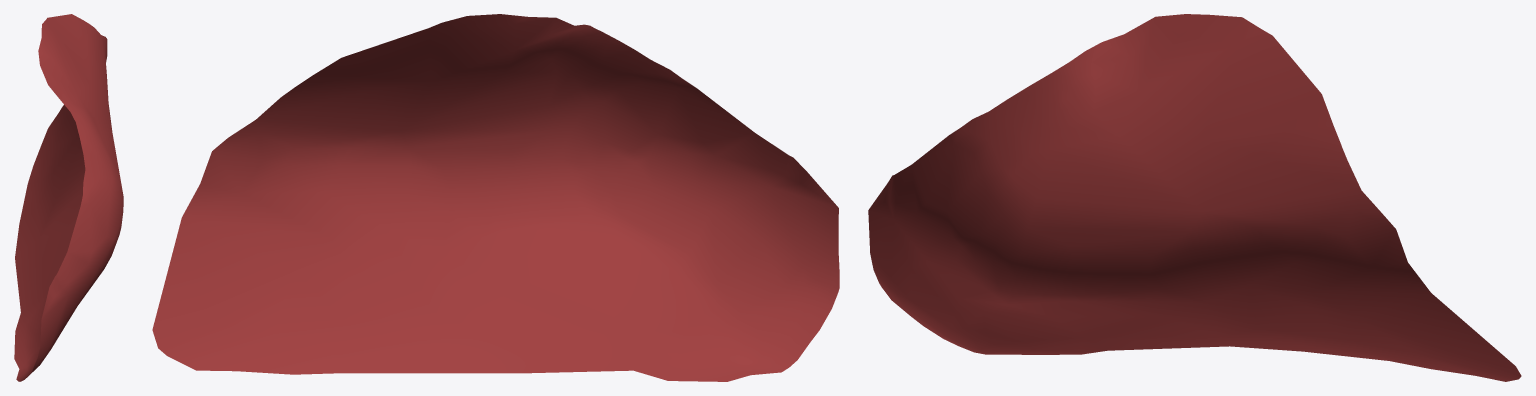
The model's file is pectoralis-minor-muscle-or.glb.
3 views of the same model, side by side, from view 1: azimuth 30°, elevation 25°; view 2: azimuth 150°, elevation 25°; view 3: azimuth 270°, elevation 25° (orthographic). The views are drawn at different scales.
Parts seen in each view (by area): view 1: Pectoralis minor muscle.or; view 2: Pectoralis minor muscle.or; view 3: Pectoralis minor muscle.or.
Boxes of the visible parts, bbox=[...] form: Pectoralis minor muscle.or: bbox=[14, 14, 123, 381]; Pectoralis minor muscle.or: bbox=[152, 14, 839, 381]; Pectoralis minor muscle.or: bbox=[868, 14, 1521, 381].
Size of the model in its own units: 0.0104 by 0.0107 by 0.0152.
